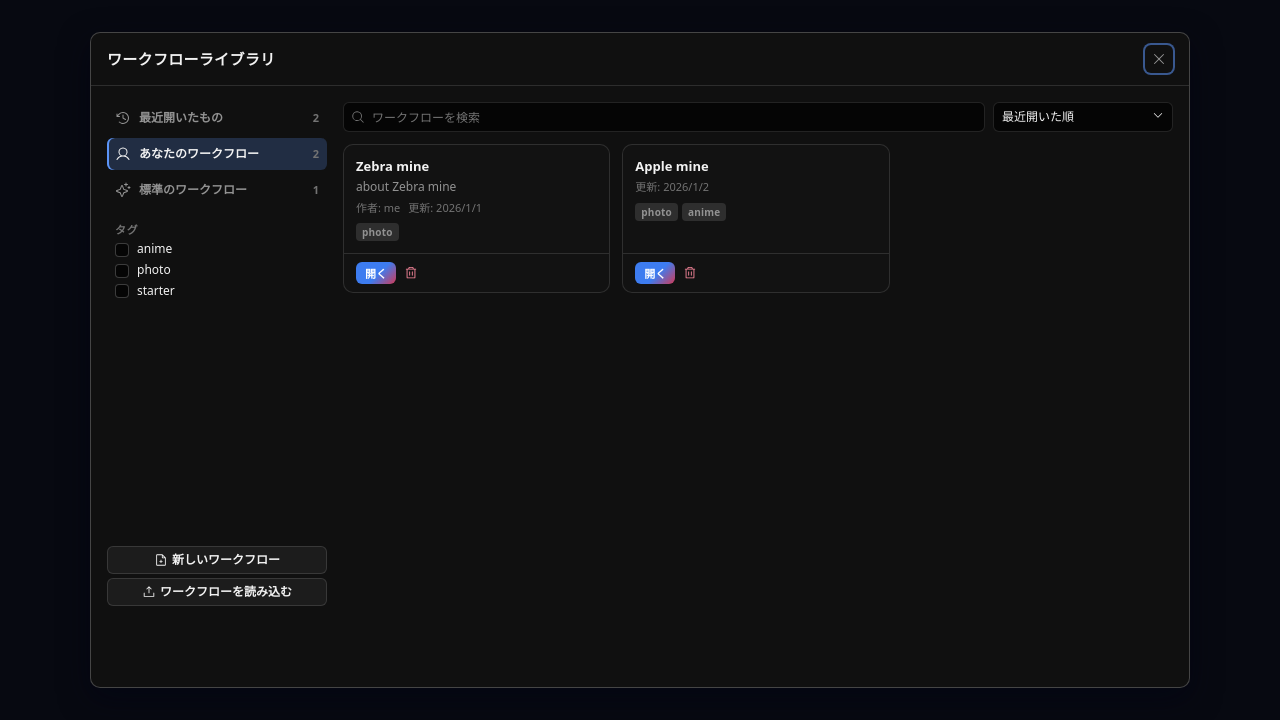
it: the lists › searches the name, the description, the author and the tags
Type "ZEBRA" into the field with placeholder "ワークフローを検索" at (664, 117), box [343,102,985,132]
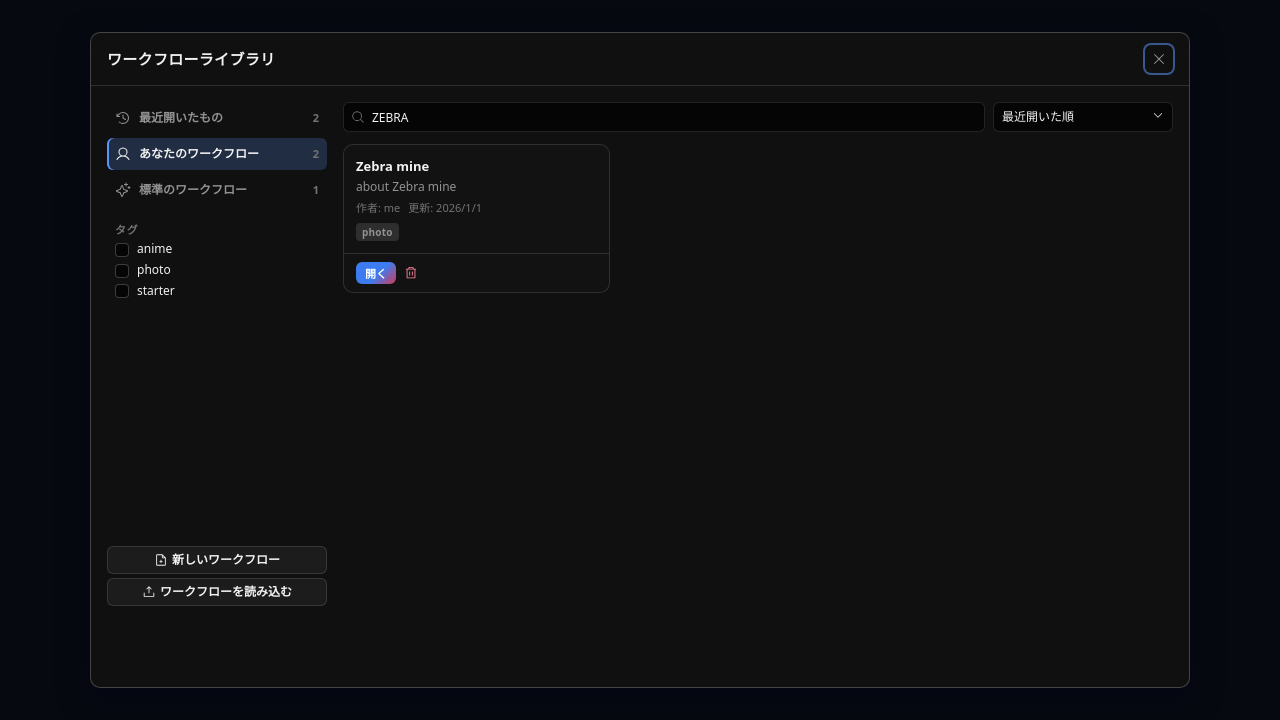
Replace the text in the field with placeholder "ワークフローを検索" with "anime" at (664, 117), box [343,102,985,132]
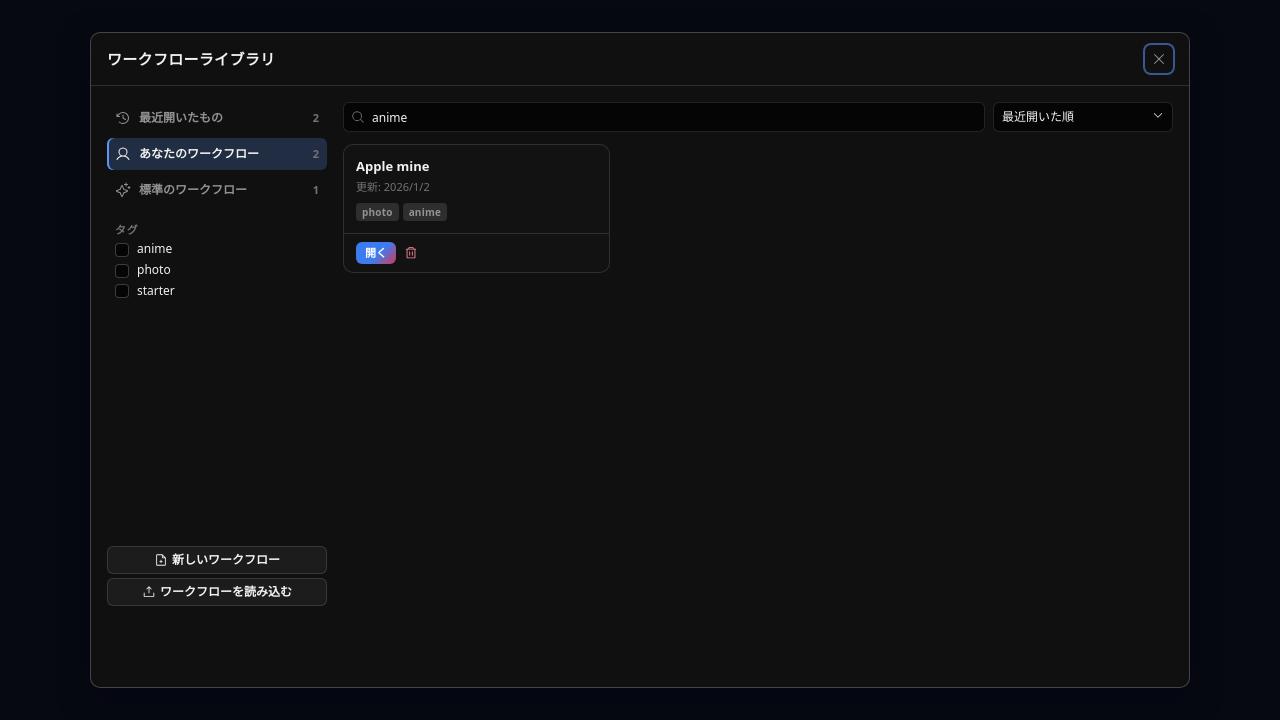
Replace the text in the field with placeholder "ワークフローを検索" with "me" at (664, 117), box [343,102,985,132]
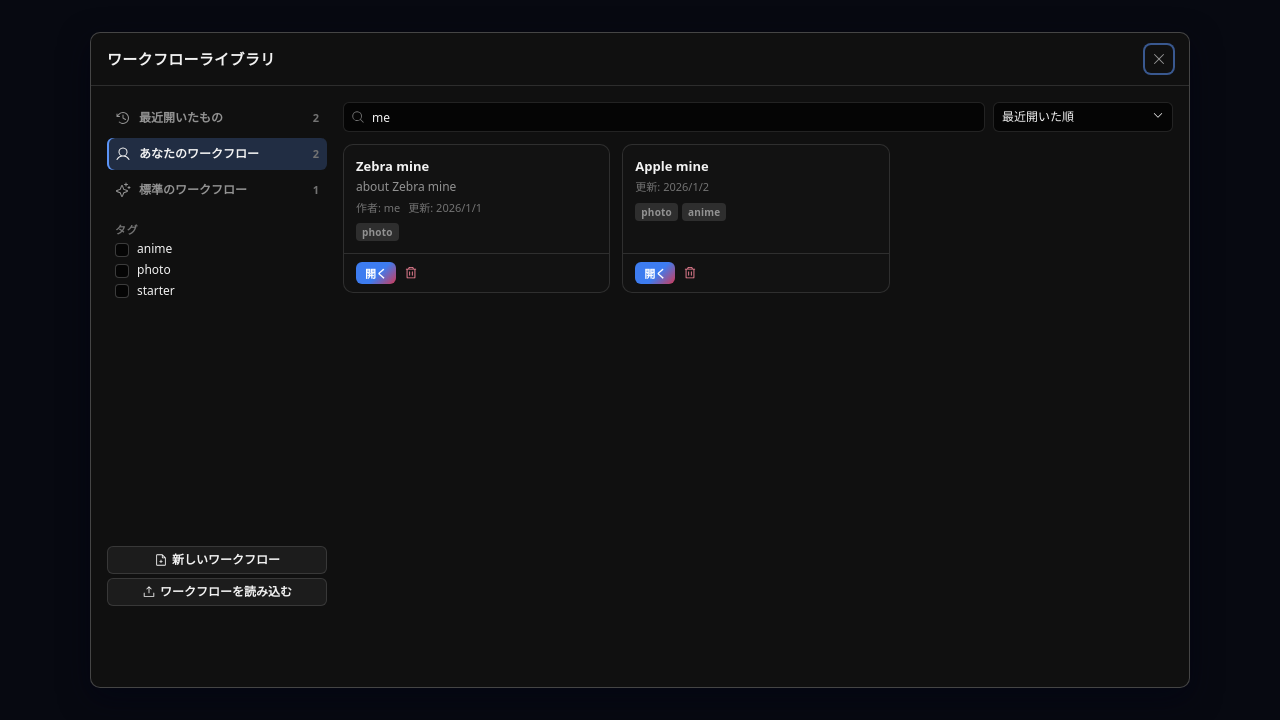
Replace the text in the field with placeholder "ワークフローを検索" with "nothing" at (664, 117), box [343,102,985,132]
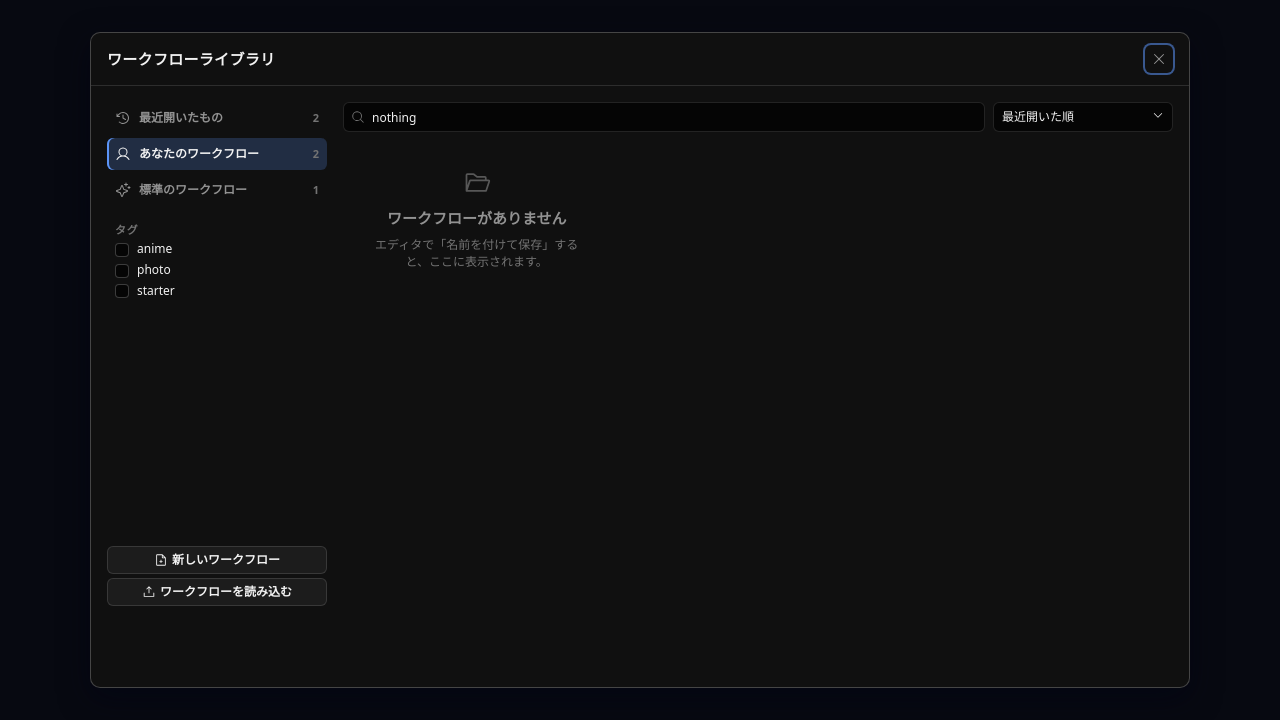
Result: the text "ワークフローがありません" is shown at [387,208,566,229]
